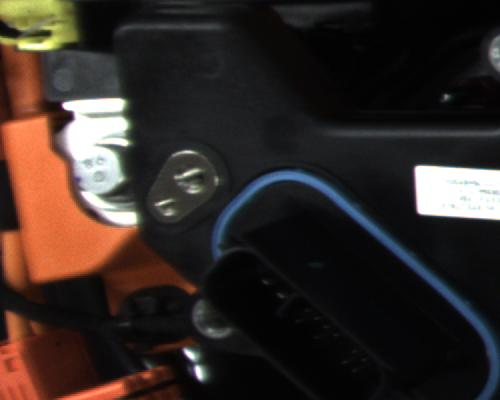nut_b: (68, 134, 129, 205)
